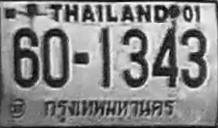0: (42, 28, 69, 88)
1: (99, 27, 110, 88)
3: (120, 28, 148, 87), (180, 28, 206, 87)
4: (152, 26, 177, 87)
6: (12, 28, 38, 88)
BKK: (42, 97, 175, 123)
